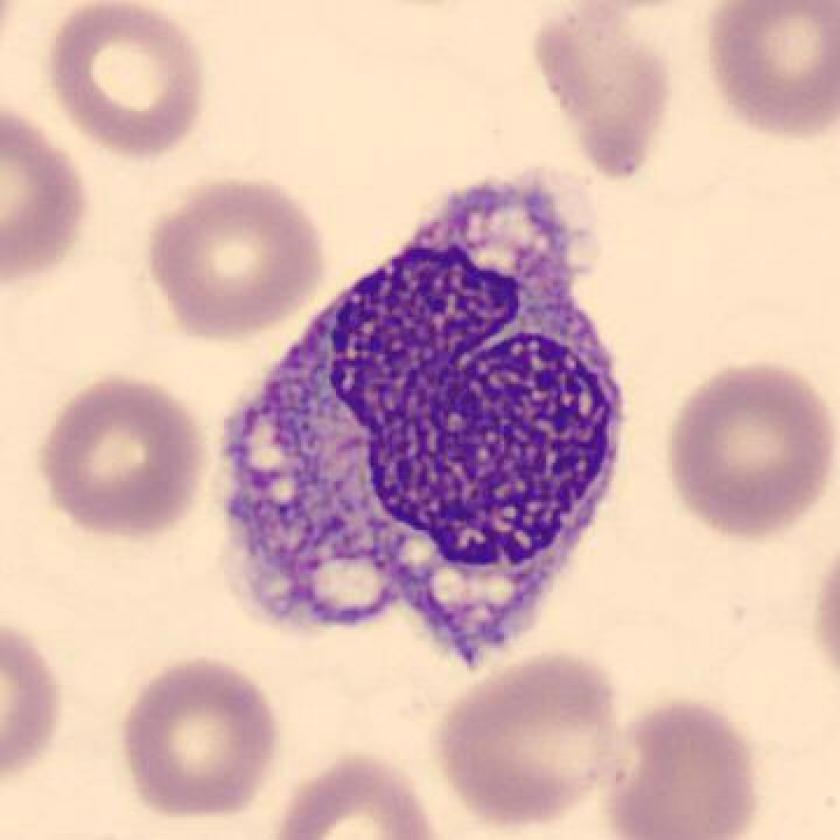monocyte: (199, 161, 650, 677)
